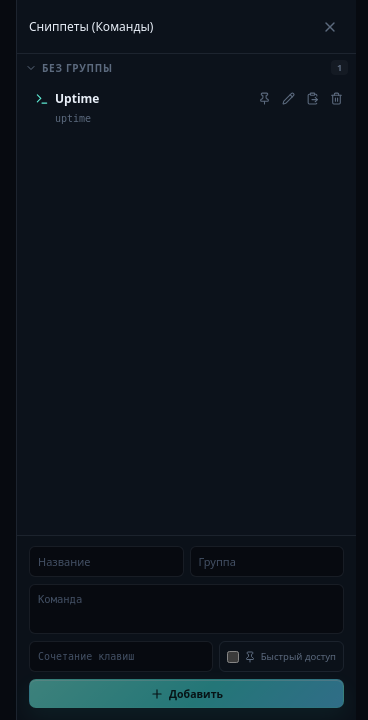
Test case: SnippetsPanel › показывает ошибки сохранения, удаления и быстрого доступа
The image size is (368, 720).
What coordinates should you click on to do the following:
click the button named "Редактировать"
I would click on:
 (288, 98)
Its box is [277,87,300,110].
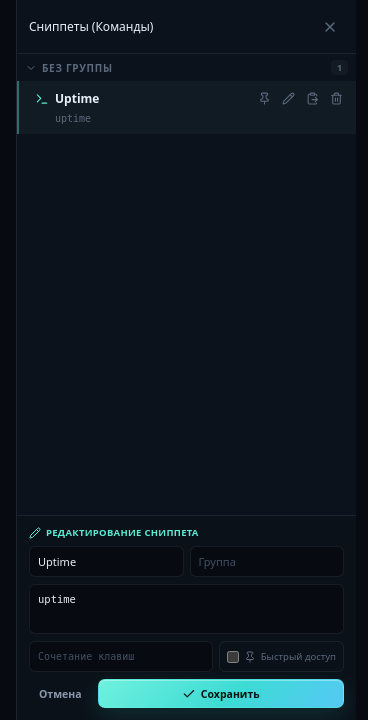
What coordinates should you click on to do the following:
click the button "Сохранить"
I would click on:
 (221, 694)
Its box is [98,679,344,708].
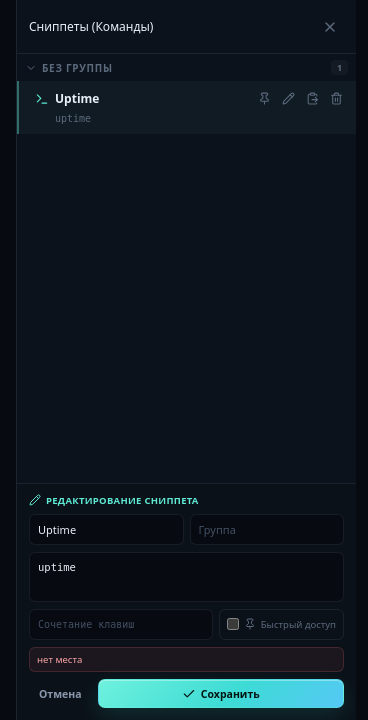
Expected: the text "нет места" is shown, [29,647,344,672]
What coordinates should you click on to do the following:
click the button named "Удалить"
I would click on:
 (336, 98)
Its box is [325,87,348,110].
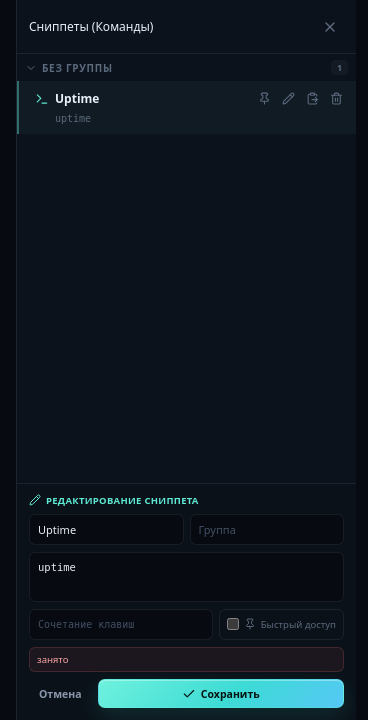
Expected: the text "занято" is shown, [29,647,344,672]
What coordinates should you click on to do the following:
click the button named "Добавить в быстрый доступ"
I would click on:
 (264, 98)
Its box is [253,87,276,110].
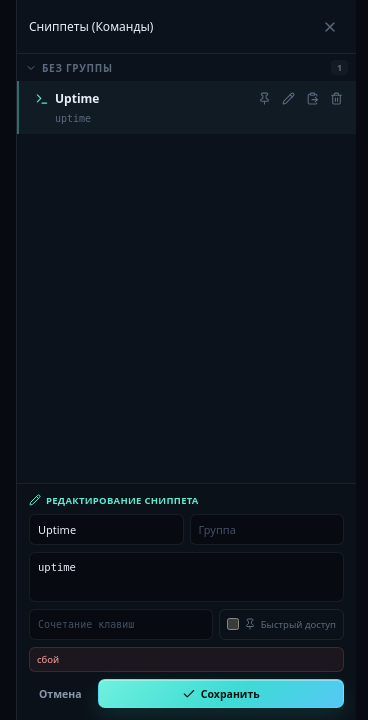
Expected: the text "сбой" is shown, [29,647,344,672]
